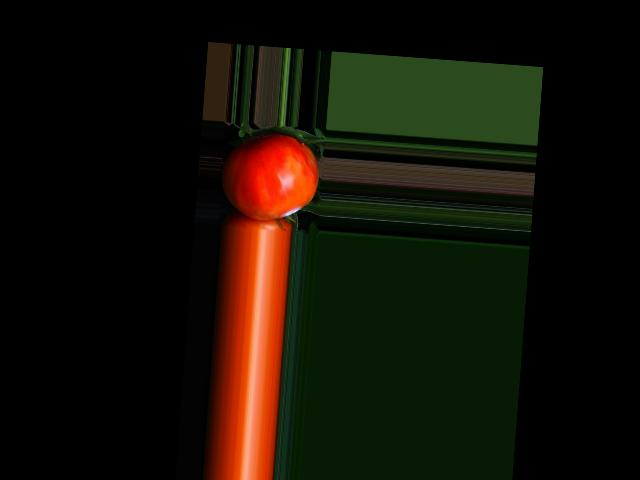tomato: (218, 130, 321, 223)
